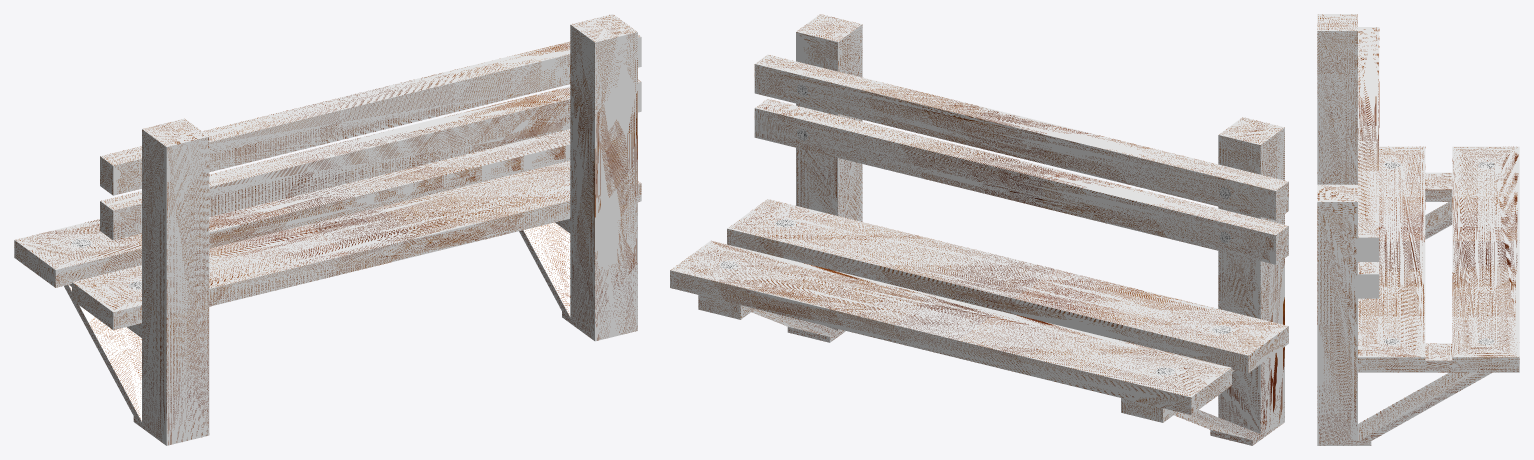
The picture shows the model from 3 angles, left to right: view 1: azimuth 30°, elevation 25°; view 2: azimuth 150°, elevation 25°; view 3: azimuth 270°, elevation 25°; orthographic projection. The views are drawn at different scales.
Parts seen in each view (by area): view 1: mesh1_mesh1-geometry; view 2: mesh1_mesh1-geometry; view 3: mesh1_mesh1-geometry.
Boxes of the visible parts, x1,y1,x2,y2 form: mesh1_mesh1-geometry: [14, 14, 641, 445]; mesh1_mesh1-geometry: [670, 14, 1288, 445]; mesh1_mesh1-geometry: [1317, 14, 1519, 445].
Size of the model in its own units: 0.8286 by 0.4479 by 0.3359.
